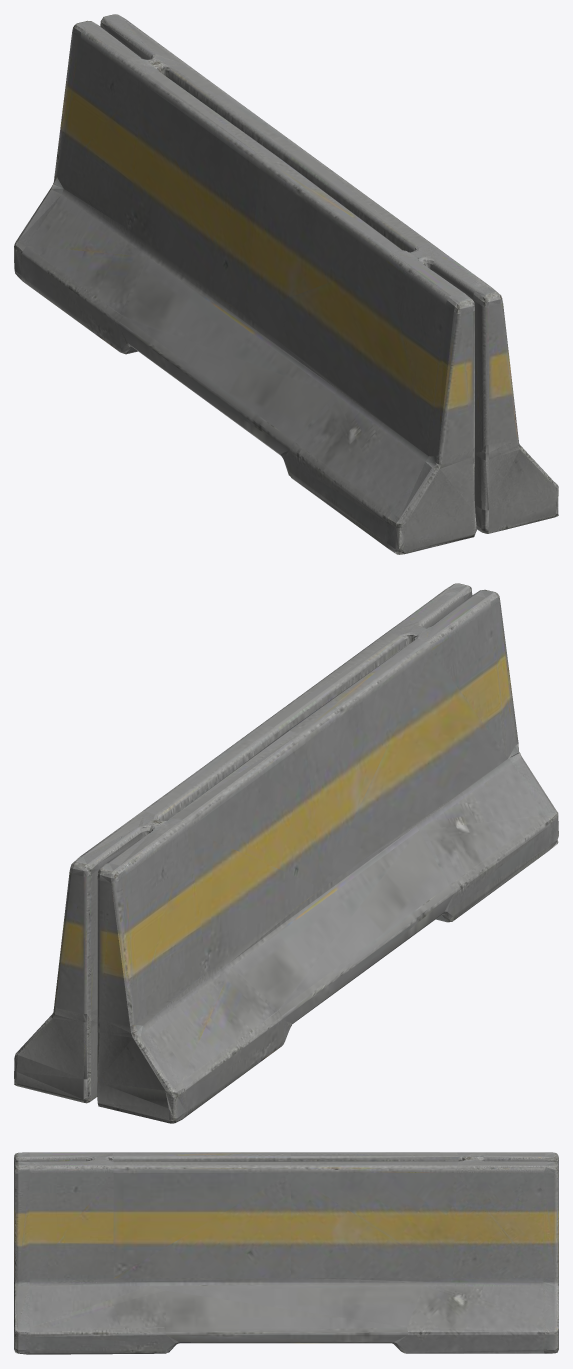
File: jersey.glb
The picture shows the model from 3 angles, top to bottom: view 1: azimuth 30°, elevation 25°; view 2: azimuth 150°, elevation 25°; view 3: azimuth 270°, elevation 25°; orthographic projection. The views are drawn at different scales.
Parts seen in each view (by area): view 1: Prop_jersey; view 2: Prop_jersey; view 3: Prop_jersey.
Boxes of the visible parts, x1,y1,x2,y2 form: Prop_jersey: (14, 14, 558, 554); Prop_jersey: (14, 583, 558, 1123); Prop_jersey: (14, 1152, 558, 1354).
Bounding box in the file's own units: 0.4905 × 0.6827 × 2.
Materials: 1 (1 with a texture image).
